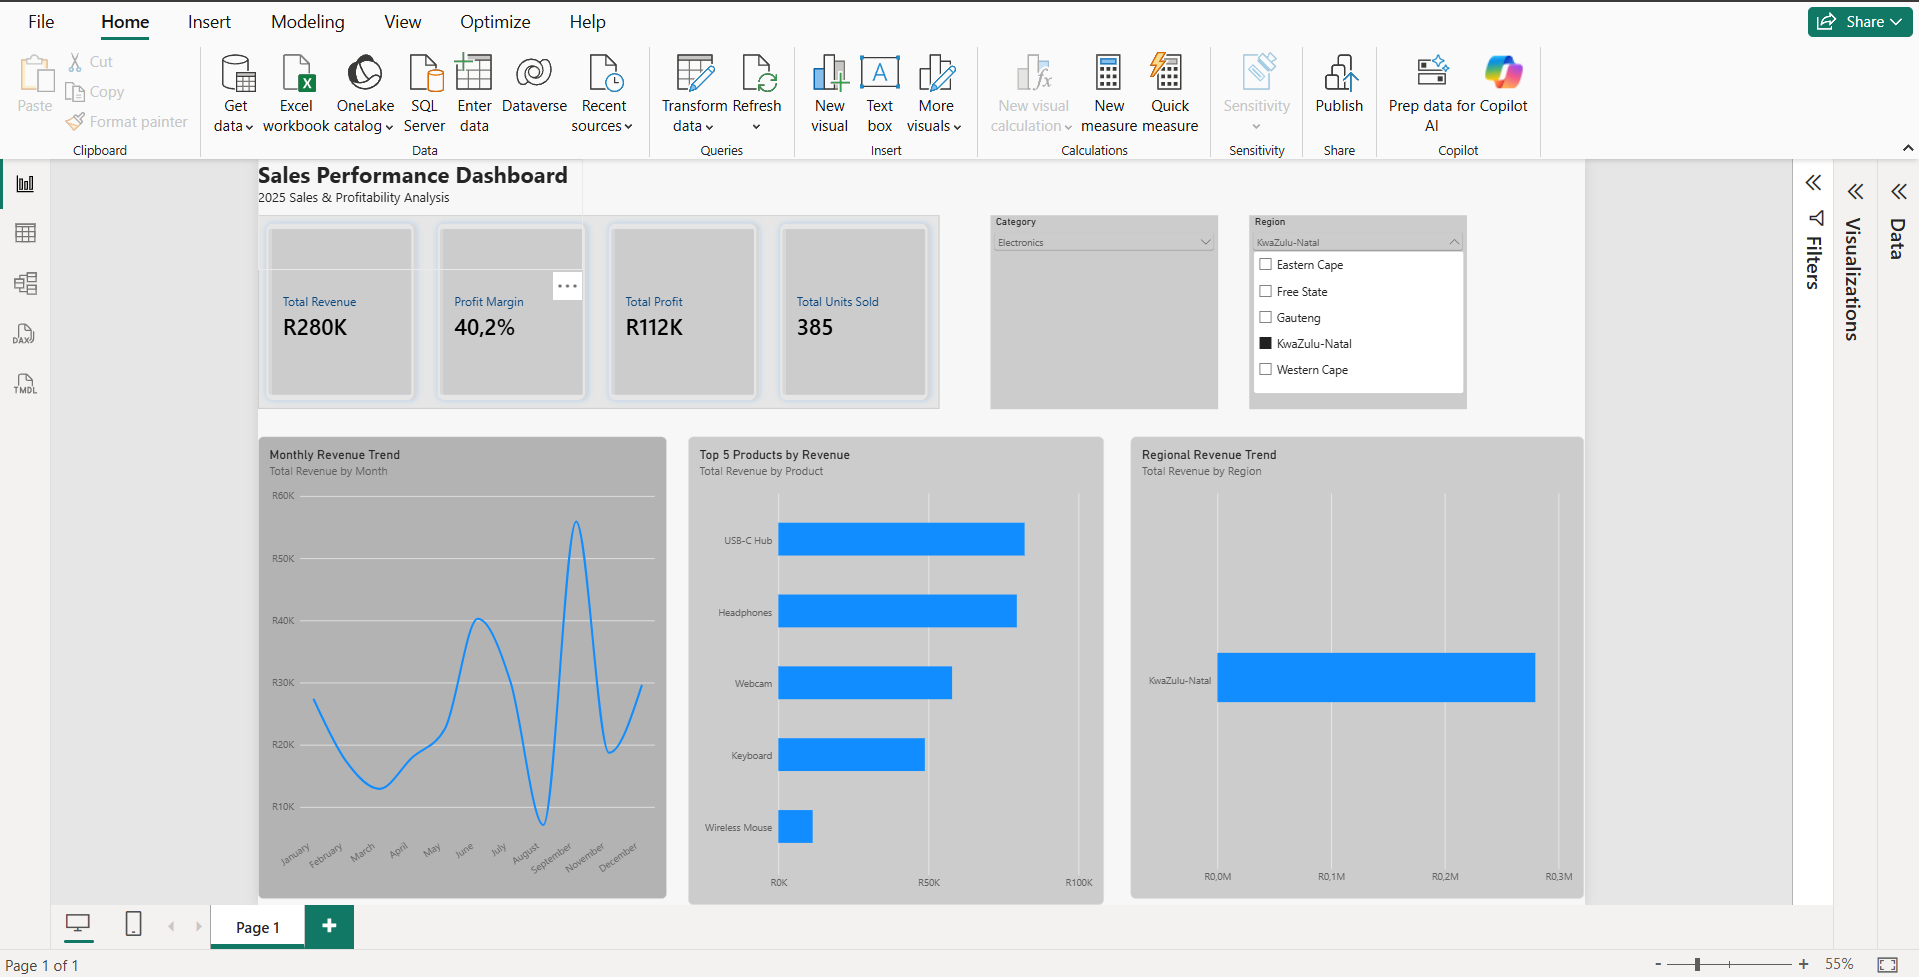

What the dashboard file says about the page in this screenshot:
{"tool":"powerbi","page":{"name":"Page 1","canvas":[1920,1080],"ordinal":0},"visuals":[{"type":"cardVisual","fields":{"Data":["Sales_Data.Total Revenue","Sales_Data.Profit Margin","Sales_Data.Total Profit","Sales_Data.Total Units Sold"]},"box":[0,81.2,988.1,280.5],"z":0},{"type":"lineChart","title":"Monthly Revenue Trend","fields":{"Category":["Sales_Data.Order Date.Variation.Date Hierarchy.Year","Sales_Data.Order Date.Variation.Date Hierarchy.Quarter","Sales_Data.Order Date.Variation.Date Hierarchy.Month","Sales_Data.Order Date.Variation.Date Hierarchy.Day"],"Y":["Sales_Data.Total Revenue"]},"box":[0,401.7,591.8,669.6],"z":1},{"type":"clusteredBarChart","title":"Regional Revenue Trend","fields":{"Category":["Sales_Data.Region"],"Y":["Sales_Data.Total Revenue"]},"box":[1263.1,401.7,656.9,669.6],"z":2},{"type":"clusteredBarChart","title":"Top 5 Products by Revenue","fields":{"Category":["Sales_Data.Product"],"Y":["Sales_Data.Total Revenue"]},"box":[622.5,401.7,602.6,678.6],"z":3},{"type":"slicer","fields":{"Values":["Sales_Data.Region"]},"box":[1435.1,81.4,314.9,280.5],"z":4},{"type":"slicer","fields":{"Values":["Sales_Data.Category"]},"box":[1060.5,81.4,329.4,280.5],"z":5},{"type":"textbox","box":[0,0,470.5,161.1],"z":6}]}

Visuals, with their boxes on the page's 1920x1080 design canvas (x1, y1, x2, y2). These are canvas units, not pixel positions in the 1919x977 screenshot, which may show the page scaled, cropped or inside an application window:
cardVisual - Sales_Data.Total Revenue x Sales_Data.Profit Margin: (0,81,988,362)
"Monthly Revenue Trend" lineChart: (0,402,592,1071)
"Regional Revenue Trend" clusteredBarChart: (1263,402,1920,1071)
"Top 5 Products by Revenue" clusteredBarChart: (622,402,1225,1080)
slicer - Sales_Data.Region: (1435,81,1750,362)
slicer - Sales_Data.Category: (1060,81,1390,362)
textbox: (0,0,470,161)
